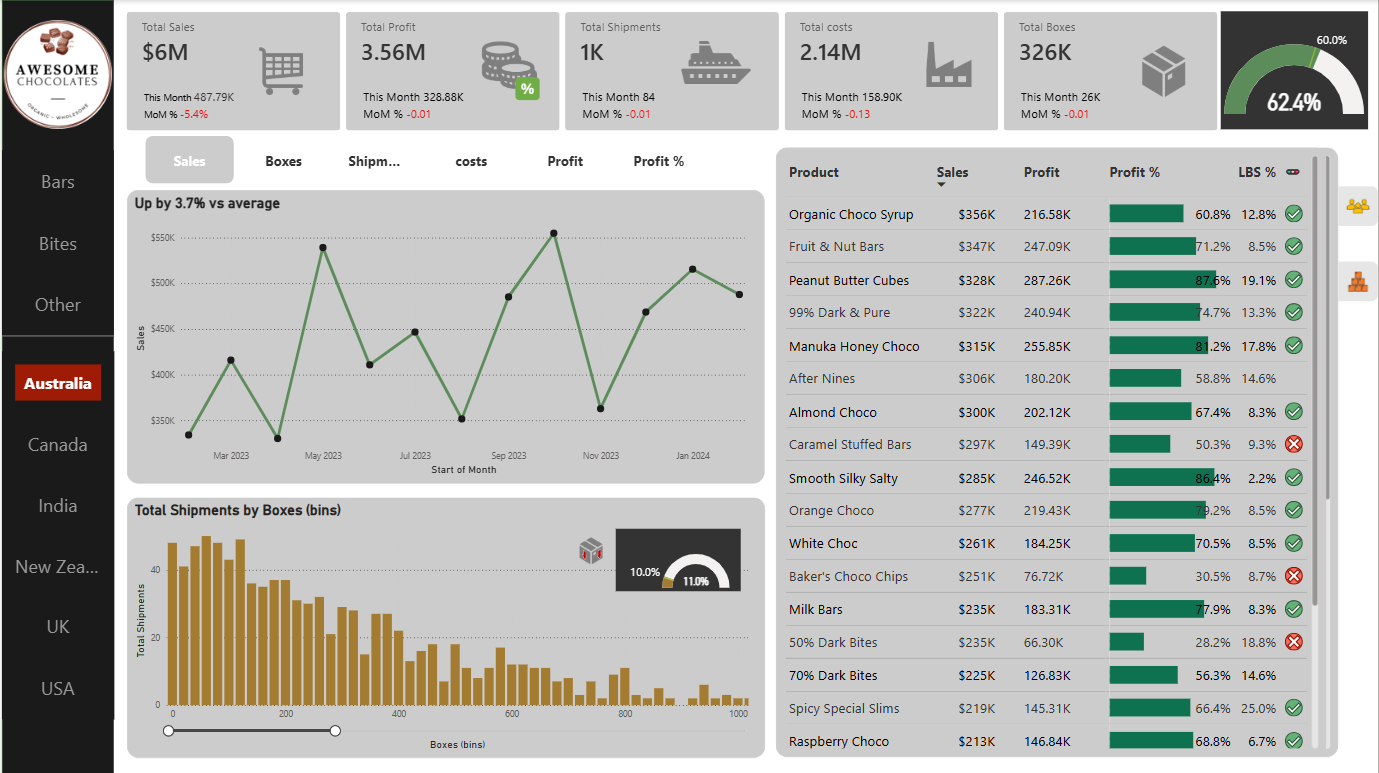

This screenshot's page, from the dashboard's own definition file:
{"tool":"powerbi","page":{"name":"sales Person","canvas":[1920,1080],"ordinal":2},"visuals":[{"type":"shape","box":[0,0,156.2,1080.2],"z":0},{"type":"cardVisual","fields":{"Data":["_Measure.Total Sales","_Measure.Total Profit","_Measure.Total Shipments","_Measure.Total costs","_Measure.Total Boxes"]},"box":[156.2,0,1557.4,199.6],"z":1000},{"type":"image","box":[334.9,59.3,113.4,80.2],"z":2000},{"type":"image","box":[650.6,47.1,116.9,102.9],"z":3000},{"type":"image","box":[929.7,36.6,134.3,102.9],"z":4000},{"type":"image","box":[1269.8,45.3,102.9,89],"z":5000},{"type":"image","box":[1576.7,55.8,89,87.2],"z":6000},{"type":"gauge","fields":{"Y":["_Measure.Profit %"]},"box":[1701.1,15.3,205.2,164.5],"z":7000},{"type":"image","box":[0,28.2,156.2,151.8],"z":8000},{"type":"lineChart","fields":{"Y":["_Measure.Total Sales"],"Category":["calendar.Start of Month"]},"box":[175,265,889.3,409.9],"z":9000},{"type":"advancedSlicerVisual","title":"Measure Selector","fields":{"Values":["Measure Selector.Measure Selector"]},"box":[195,185,788.5,76.9],"z":10000},{"type":"columnChart","fields":{"Category":["shipments.Boxes (bins)"],"Y":["_Measure.Total Shipments"]},"box":[175,694.5,890,363.1],"z":11000},{"type":"gauge","fields":{"Y":["_Measure.LBS %"]},"box":[856.5,737.8,174.4,87.2],"z":12000},{"type":"image","box":[798.8,737.8,46.2,61.5],"z":13000},{"type":"tableEx","title":"People Details","fields":{"Values":["people.Picture","people.Sales person","_Measure.Total Sales","_Measure.Total Profit","_Measure.Profit %","_Measure.LBS %","_Measure.Profit Target Indicater"]},"box":[1079.7,205.8,785,850],"z":14000},{"type":"advancedSlicerVisual","fields":{"Values":["locations.Geo"]},"box":[0,489.7,156.4,513.9],"z":16000},{"type":"advancedSlicerVisual","fields":{"Values":["products.Category"]},"box":[0,208.5,156.2,258.1],"z":17000},{"type":"shape","box":[0,448.7,156.4,41],"z":18000},{"type":"image","title":"People icon","box":[1865,241.7,55,90],"z":19000},{"type":"image","title":"Product icon","box":[1865,361.7,55,63.3],"z":20000}]}

Visuals, with their boxes in screenshot pixels (x1, y1, x2, y2), scaled from the page's 1920x1080 canvas onto the 1379x773 screenshot:
shape: l=0, t=0, r=112, b=772
cardVisual - _Measure.Total Sales x _Measure.Total Profit: l=112, t=0, r=1231, b=143
image: l=241, t=42, r=322, b=100
image: l=467, t=34, r=551, b=107
image: l=668, t=26, r=764, b=100
image: l=912, t=32, r=986, b=96
image: l=1132, t=40, r=1196, b=102
gauge - _Measure.Profit %: l=1222, t=11, r=1369, b=129
image: l=0, t=20, r=112, b=129
lineChart - _Measure.Total Sales x calendar.Start of Month: l=126, t=190, r=764, b=483
"Measure Selector" advancedSlicerVisual: l=140, t=132, r=706, b=187
columnChart - shipments.Boxes (bins) x _Measure.Total Shipments: l=126, t=497, r=765, b=757
gauge - _Measure.LBS %: l=615, t=528, r=740, b=590
image: l=574, t=528, r=607, b=572
"People Details" tableEx: l=775, t=147, r=1339, b=756
advancedSlicerVisual - locations.Geo: l=0, t=350, r=112, b=718
advancedSlicerVisual - products.Category: l=0, t=149, r=112, b=334
shape: l=0, t=321, r=112, b=350
"People icon" image: l=1339, t=173, r=1378, b=237
"Product icon" image: l=1339, t=259, r=1378, b=304
